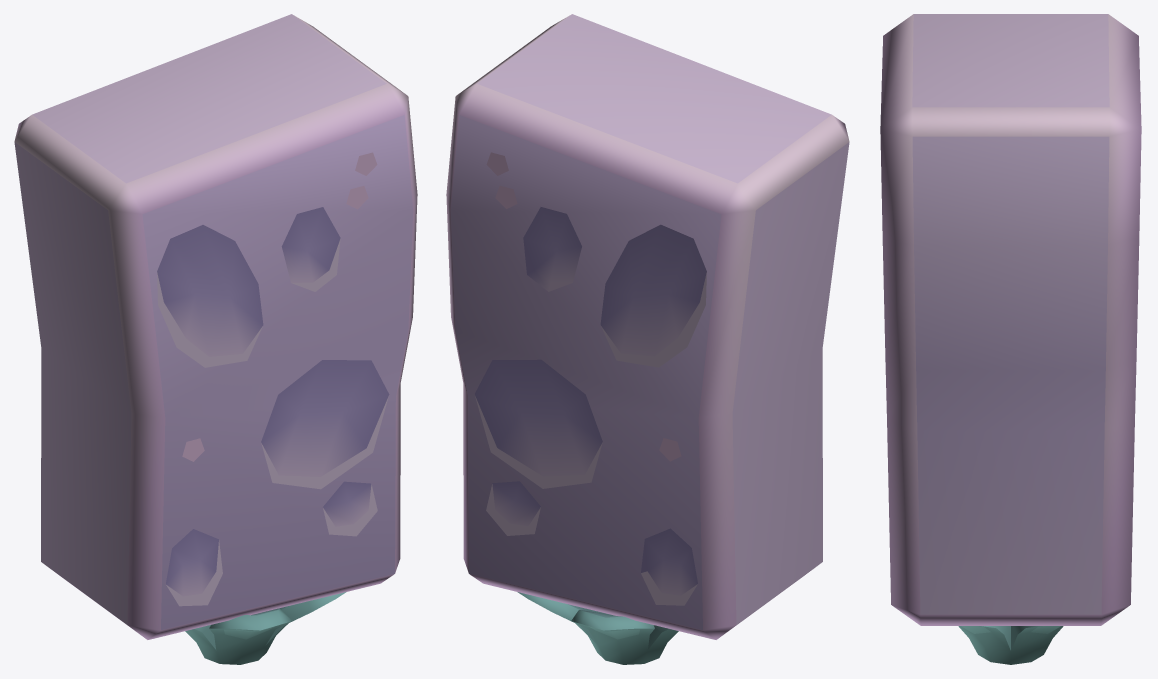
Rendered from sponge_01.glb.
3 renders of one model, left to right at view 1: azimuth 30°, elevation 25°; view 2: azimuth 150°, elevation 25°; view 3: azimuth 270°, elevation 25°, orthographic. The views are drawn at different scales.
Visible parts, largest first — view 1: sponge_01; view 2: sponge_01; view 3: sponge_01.
Part boxes in pixels (<box>): sponge_01: <box>14,14,417,664</box>; sponge_01: <box>446,14,849,664</box>; sponge_01: <box>880,14,1141,664</box>.
Size of the model in its own units: 1.2 by 2.13 by 0.8594.
